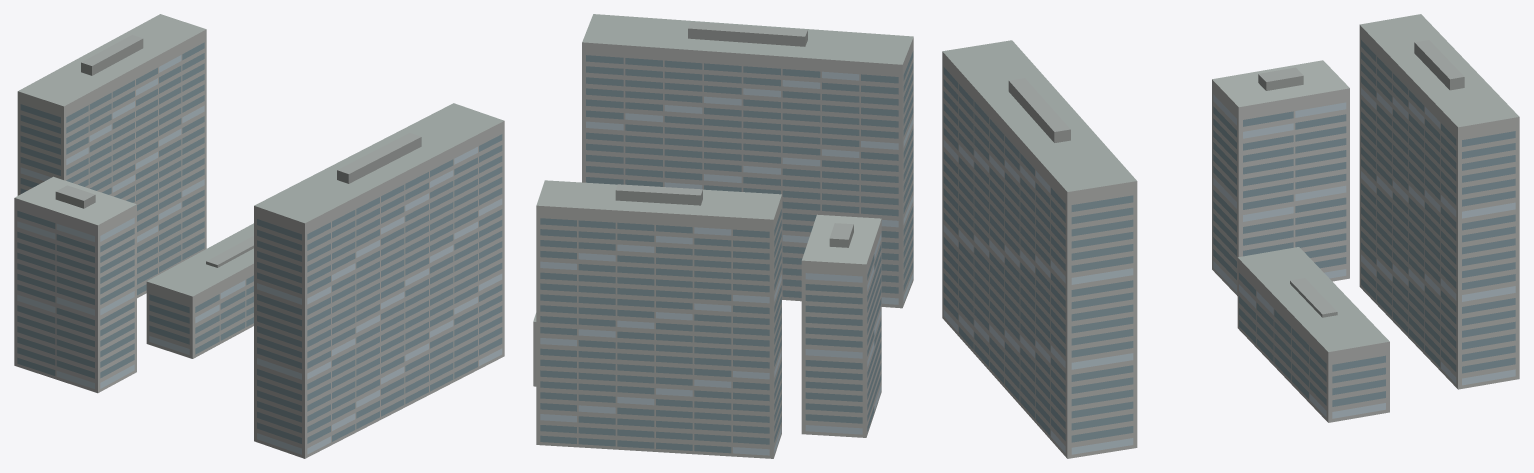
Rendered from apt-a10024821.glb.
3 views of the same model, side by side, from view 1: azimuth 30°, elevation 25°; view 2: azimuth 150°, elevation 25°; view 3: azimuth 270°, elevation 25° (orthographic). The views are drawn at different scales.
Visible parts, largest first — view 1: apt-a10024821; view 2: apt-a10024821; view 3: apt-a10024821.
Boxes of the visible parts, x1,y1,x2,y2 form: apt-a10024821: [14, 14, 504, 458]; apt-a10024821: [533, 14, 913, 458]; apt-a10024821: [942, 14, 1519, 458].
Bounding box in the file's own units: 96.52 × 60 × 113.
